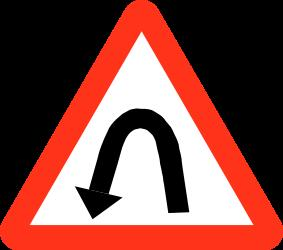Left Hair Pin Bend: (45, 17, 248, 234)
